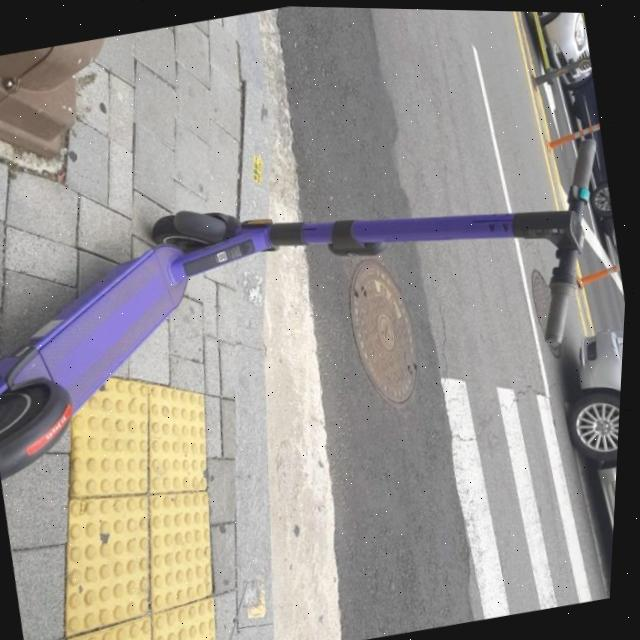crosswalk: (397, 370, 618, 631)
kickboard_no: (0, 229, 219, 505)
tactile_paving: (42, 409, 251, 640)
